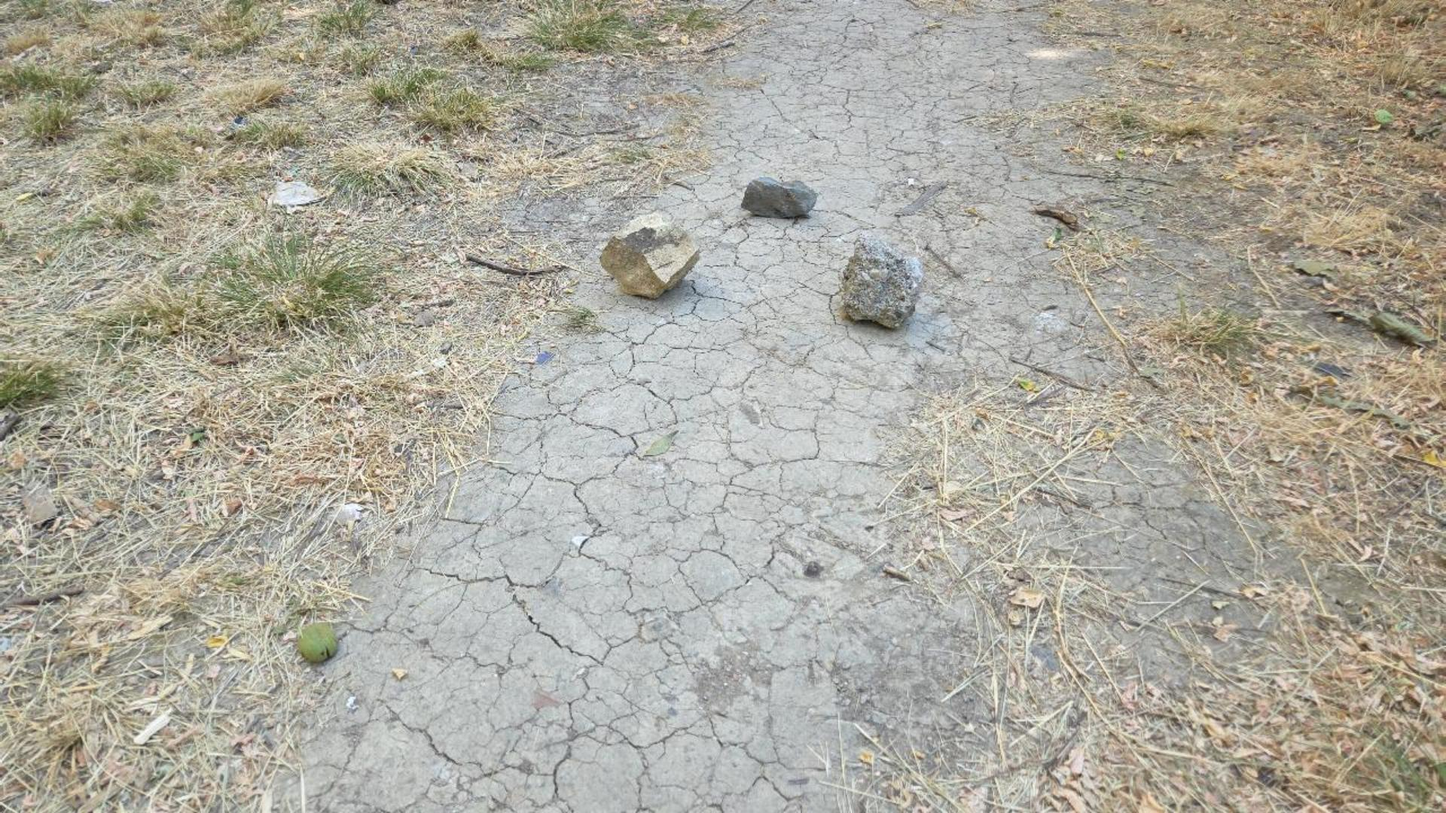rock: (600, 212, 698, 298), (836, 231, 922, 327), (741, 176, 818, 217)
